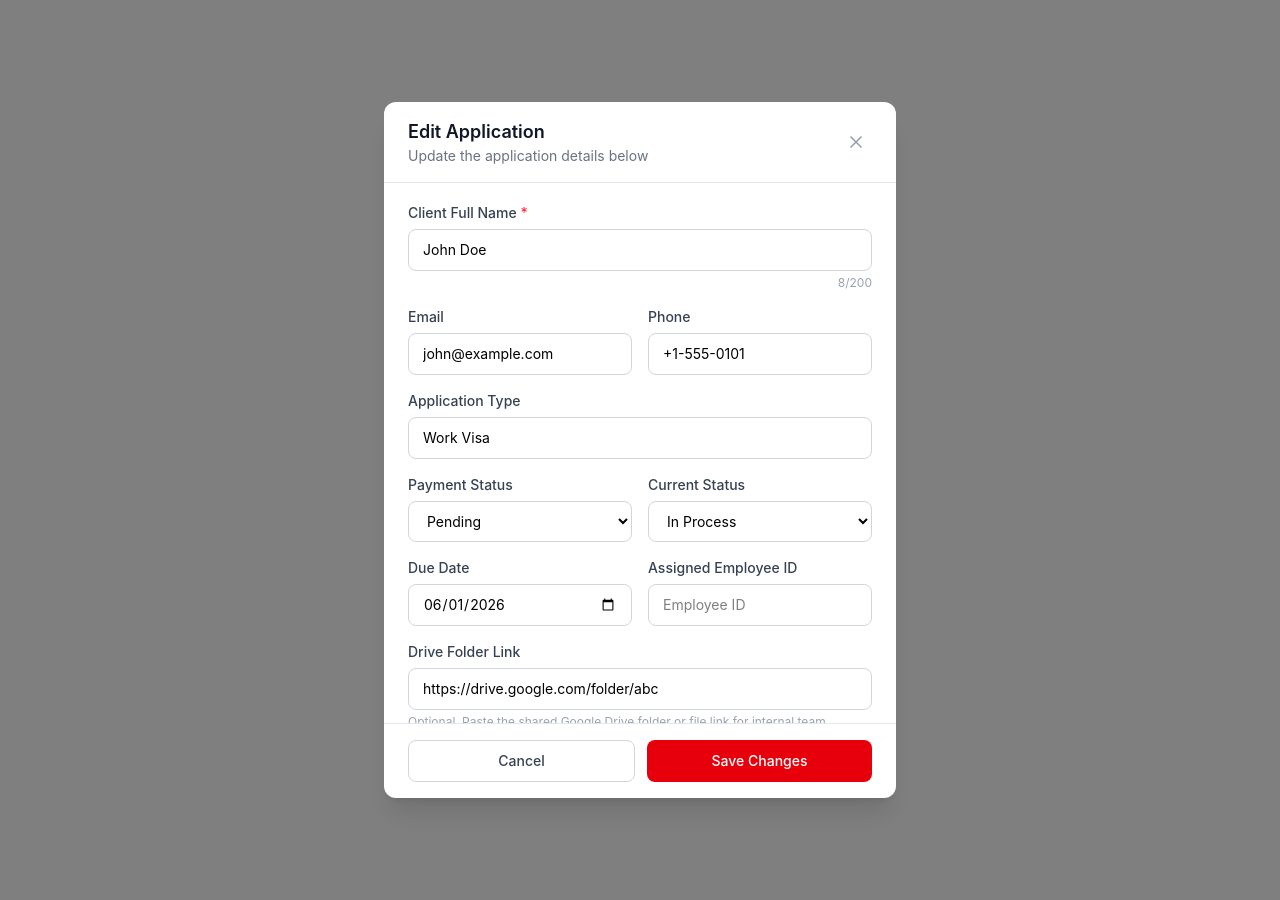
Test: EditApplicationModal Component › Validation › should show error when client name is cleared
Clear the field labelled "Client Full Name *" at (640, 250), box [408, 229, 872, 271]
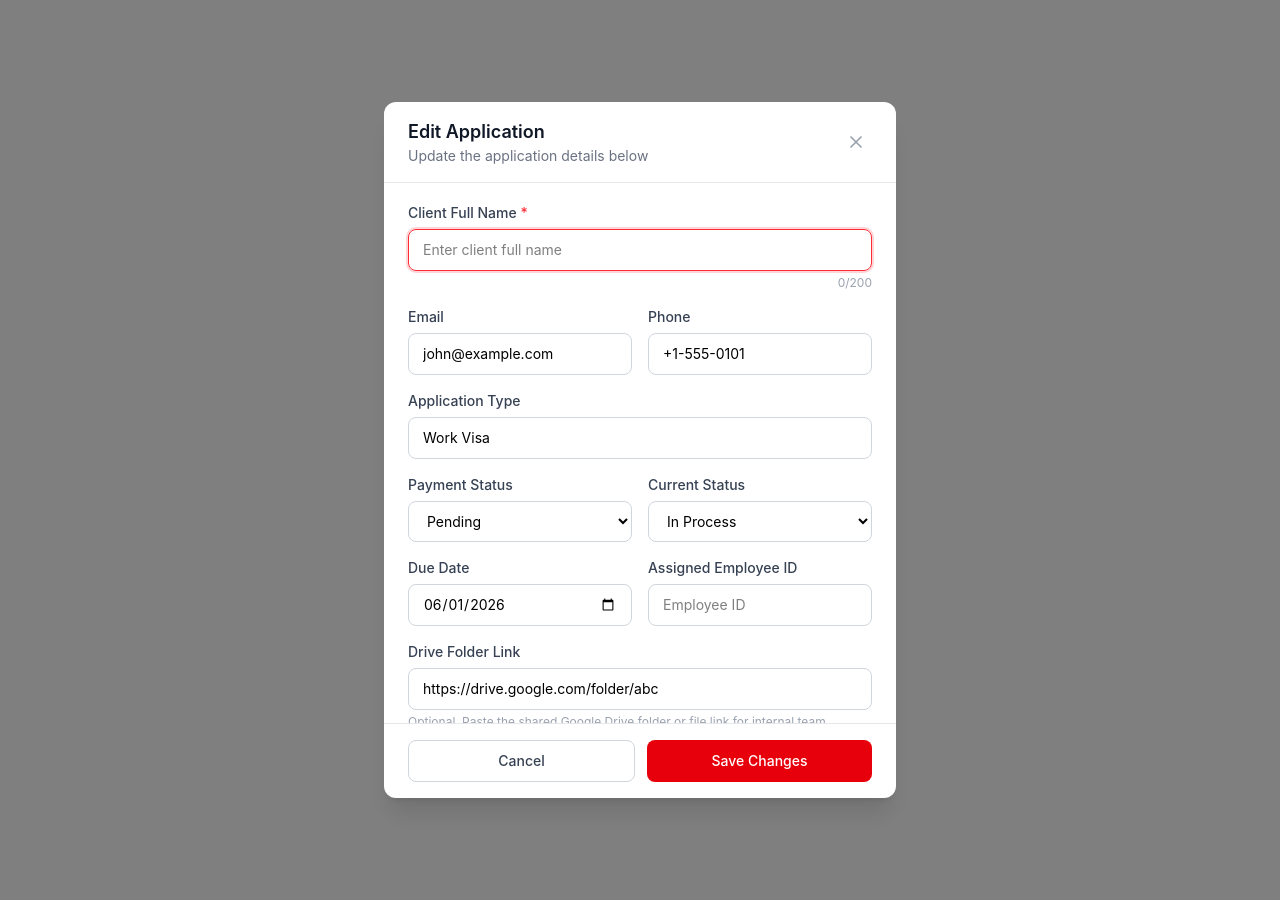
Click the button "Save Changes" at (760, 761), box [647, 740, 872, 782]
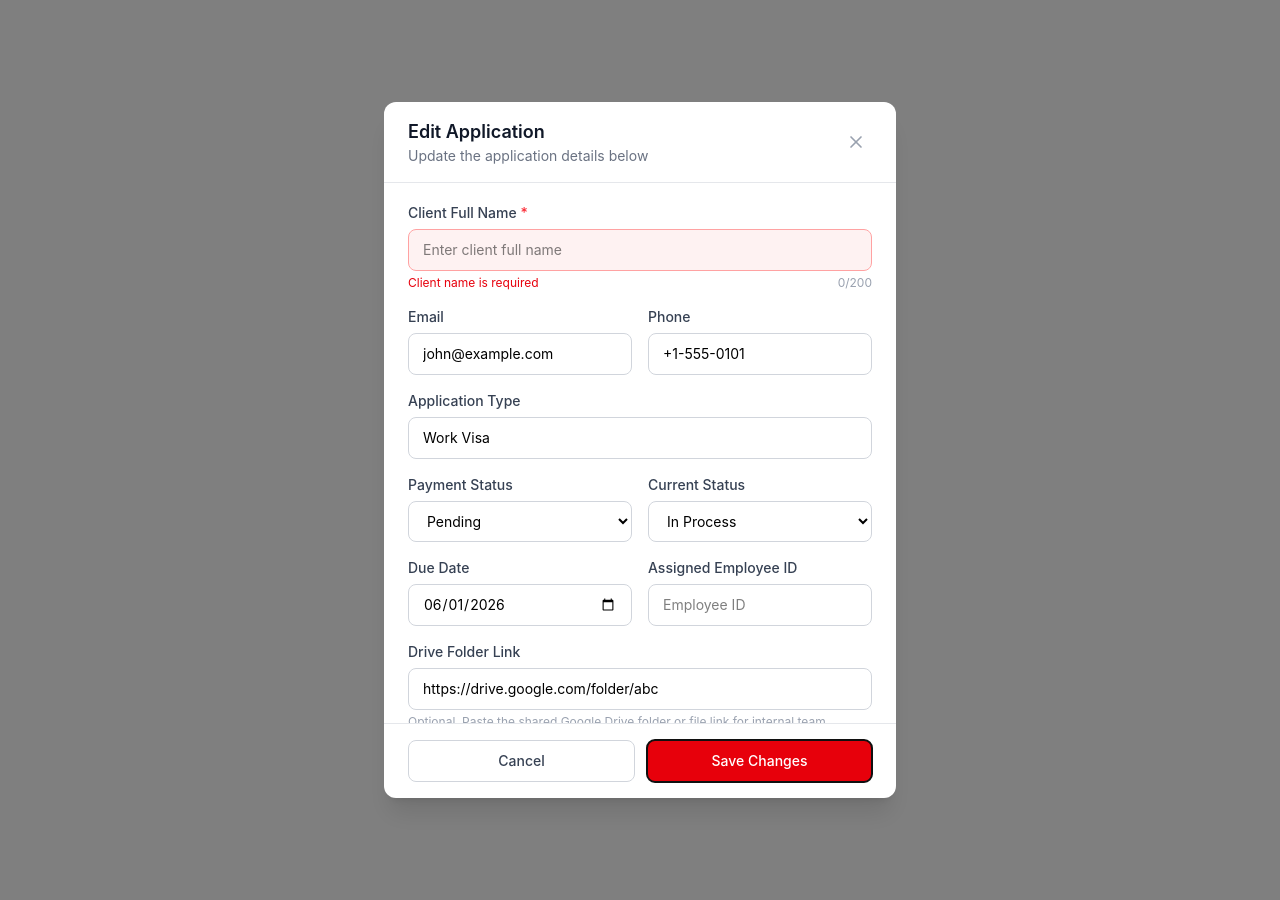
Expected: the text "Client name is required" is shown, [408, 275, 539, 291]
